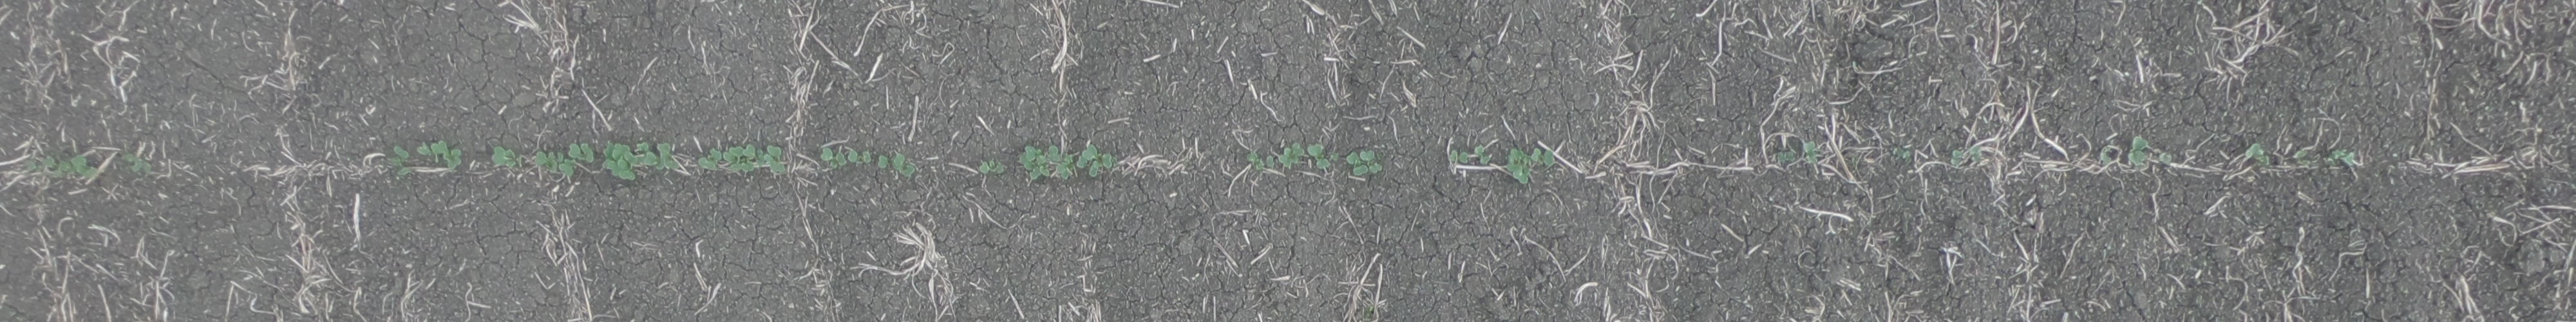plant: (598, 140, 677, 182), (531, 143, 593, 177), (1022, 148, 1069, 181), (1078, 143, 1115, 177), (724, 145, 757, 176), (1345, 149, 1383, 176), (874, 154, 913, 179), (490, 146, 522, 172), (1508, 149, 1533, 184), (430, 143, 462, 169), (72, 154, 99, 182), (1278, 143, 1306, 169), (122, 151, 149, 174), (2129, 135, 2149, 166), (1306, 143, 1329, 169), (391, 146, 412, 174), (816, 146, 846, 166), (2246, 143, 2269, 168), (764, 146, 782, 176), (1533, 146, 1562, 164), (700, 146, 718, 171), (1804, 140, 1819, 164), (981, 159, 1002, 176), (849, 148, 869, 164), (1475, 145, 1492, 164), (1449, 149, 1470, 164)
